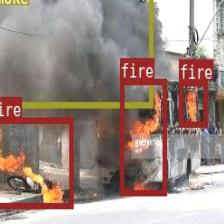fire: (0, 116, 72, 208), (120, 77, 166, 194), (179, 79, 206, 126)
smoke: (0, 0, 153, 106)
